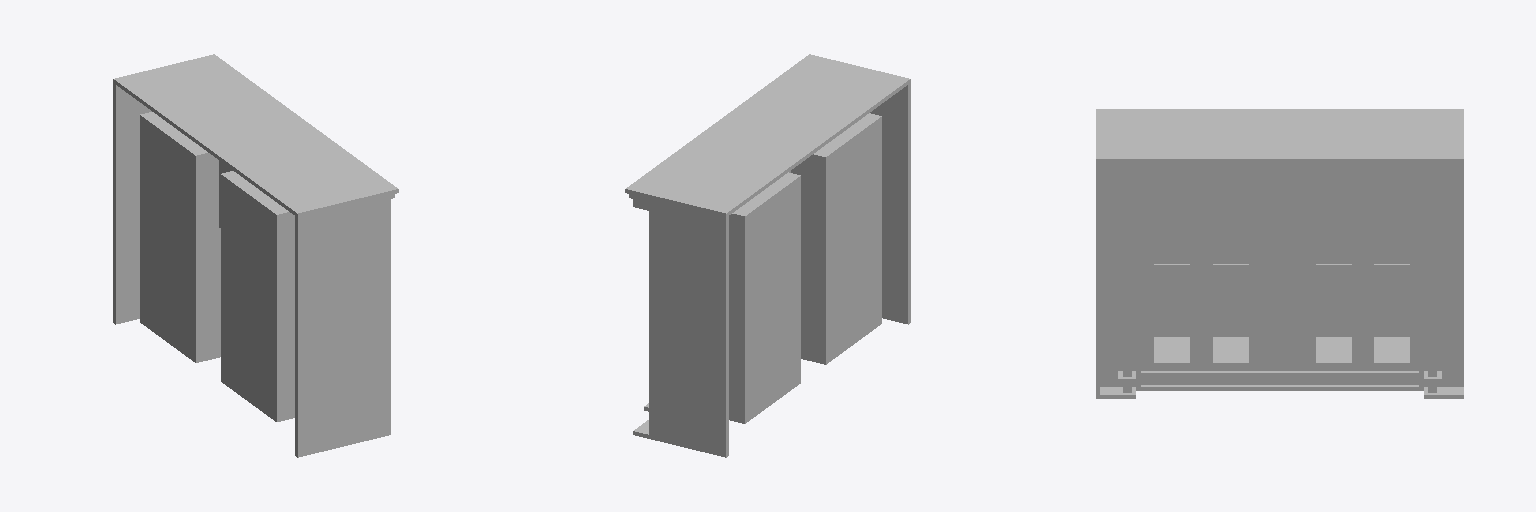
The model's file is mur bibliohtèque.obj.
3 renders of one model, left to right at view 1: azimuth 30°, elevation 25°; view 2: azimuth 150°, elevation 25°; view 3: azimuth 270°, elevation 25°, orthographic.
Visible parts, largest first — view 1: object 1; view 2: object 1; view 3: object 1.
Boxes of the visible parts, x1,y1,x2,y2 form: object 1: [113, 54, 398, 457]; object 1: [625, 54, 910, 457]; object 1: [1096, 109, 1463, 398].
Size of the model in its own units: 2.6 by 6 by 8.2.